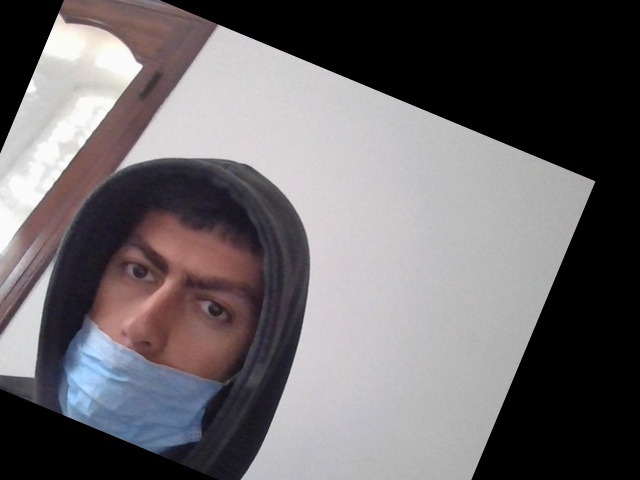mask_weared_incorrect: (59, 200, 256, 459)
